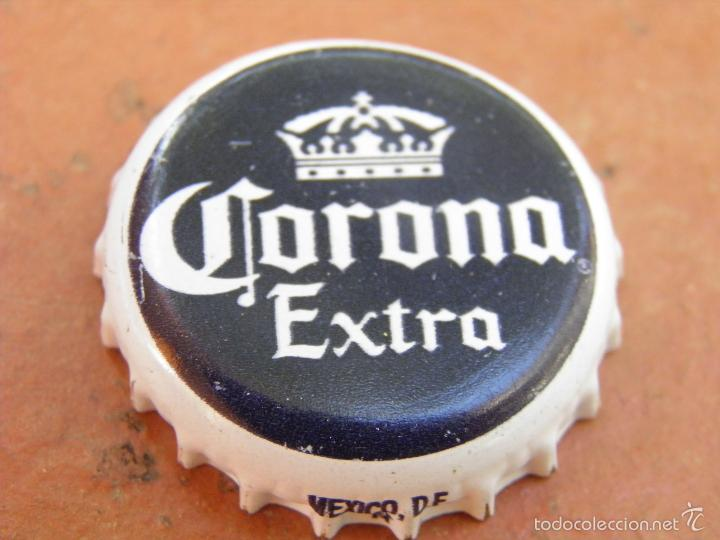corona: (87, 32, 638, 540)
